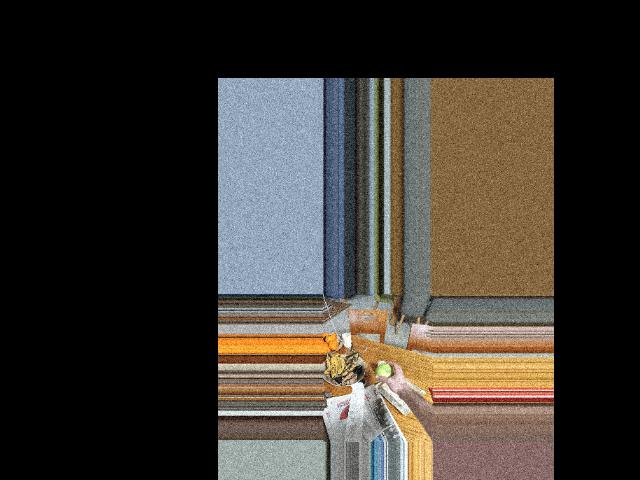apple: (373, 360, 397, 384)
